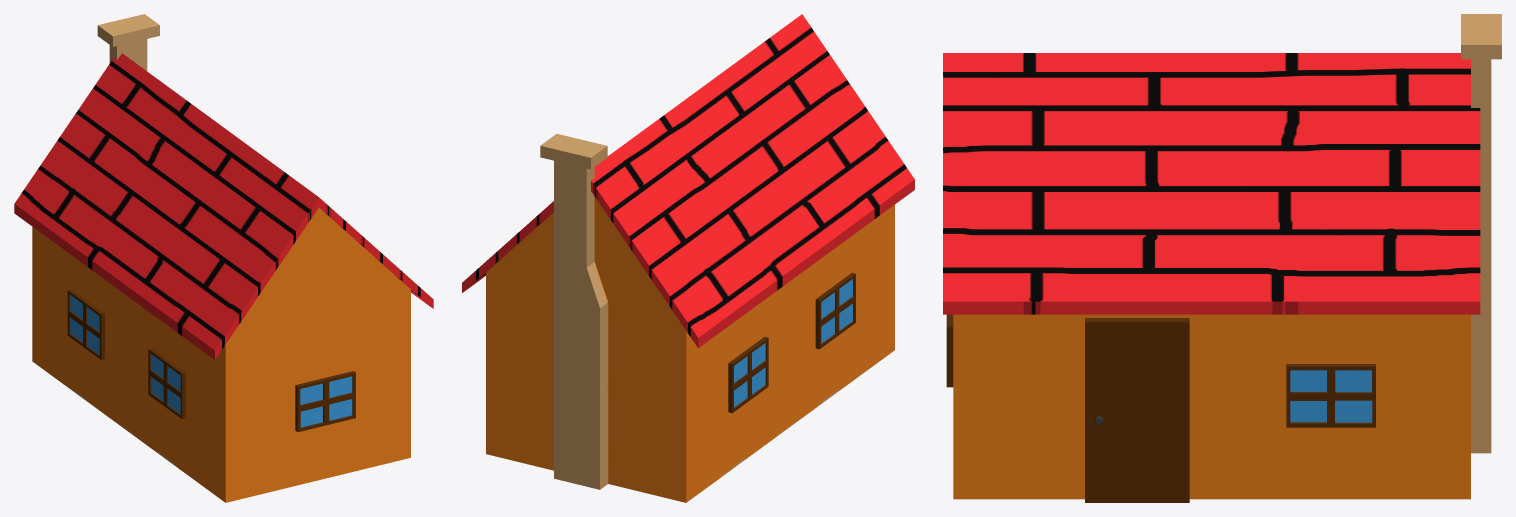
Rendered from House3.fbx.
The picture shows the model from 3 angles, left to right: view 1: azimuth 30°, elevation 25°; view 2: azimuth 150°, elevation 25°; view 3: azimuth 270°, elevation 25°; orthographic projection. The views are drawn at different scales.
Visible parts, largest first — view 1: WAlls.002, Roof.003, WindowPane.008, WindowGlass.008, WindowPane.009, WindowPane.010, WindowGlass.009, WindowGlass.010; view 2: WAlls.002, Roof.003, WindowPane.010, WindowPane.009, WindowGlass.009, WindowGlass.010; view 3: Roof.003, WAlls.002, Door.002, WindowGlass.007, WindowPane.007.
Boxes of the visible parts, bbox=[...] form: WAlls.002: bbox=[32, 14, 410, 502]; Roof.003: bbox=[14, 53, 433, 359]; WindowPane.008: bbox=[295, 371, 355, 431]; WindowGlass.008: bbox=[300, 376, 352, 427]; WindowPane.009: bbox=[148, 348, 185, 418]; WindowPane.010: bbox=[67, 289, 104, 359]; WindowGlass.009: bbox=[151, 354, 180, 413]; WindowGlass.010: bbox=[70, 295, 99, 354]; WAlls.002: bbox=[486, 134, 894, 502]; Roof.003: bbox=[462, 14, 914, 348]; WindowPane.010: bbox=[728, 336, 768, 413]; WindowPane.009: bbox=[815, 273, 855, 349]; WindowGlass.009: bbox=[821, 279, 852, 343]; WindowGlass.010: bbox=[734, 343, 765, 407]; Roof.003: bbox=[943, 53, 1480, 314]; WAlls.002: bbox=[953, 14, 1501, 499]; Door.002: bbox=[1085, 318, 1189, 502]; WindowGlass.007: bbox=[1290, 370, 1372, 422]; WindowPane.007: bbox=[1286, 364, 1375, 427].
Size of the model in its own units: 432 by 353 by 261.
